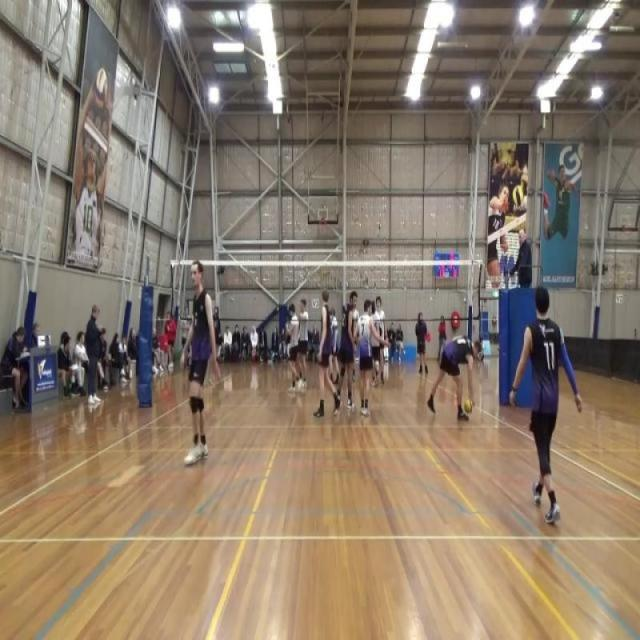volleyball: (94, 68, 107, 110), (512, 185, 525, 208), (464, 397, 472, 416)
